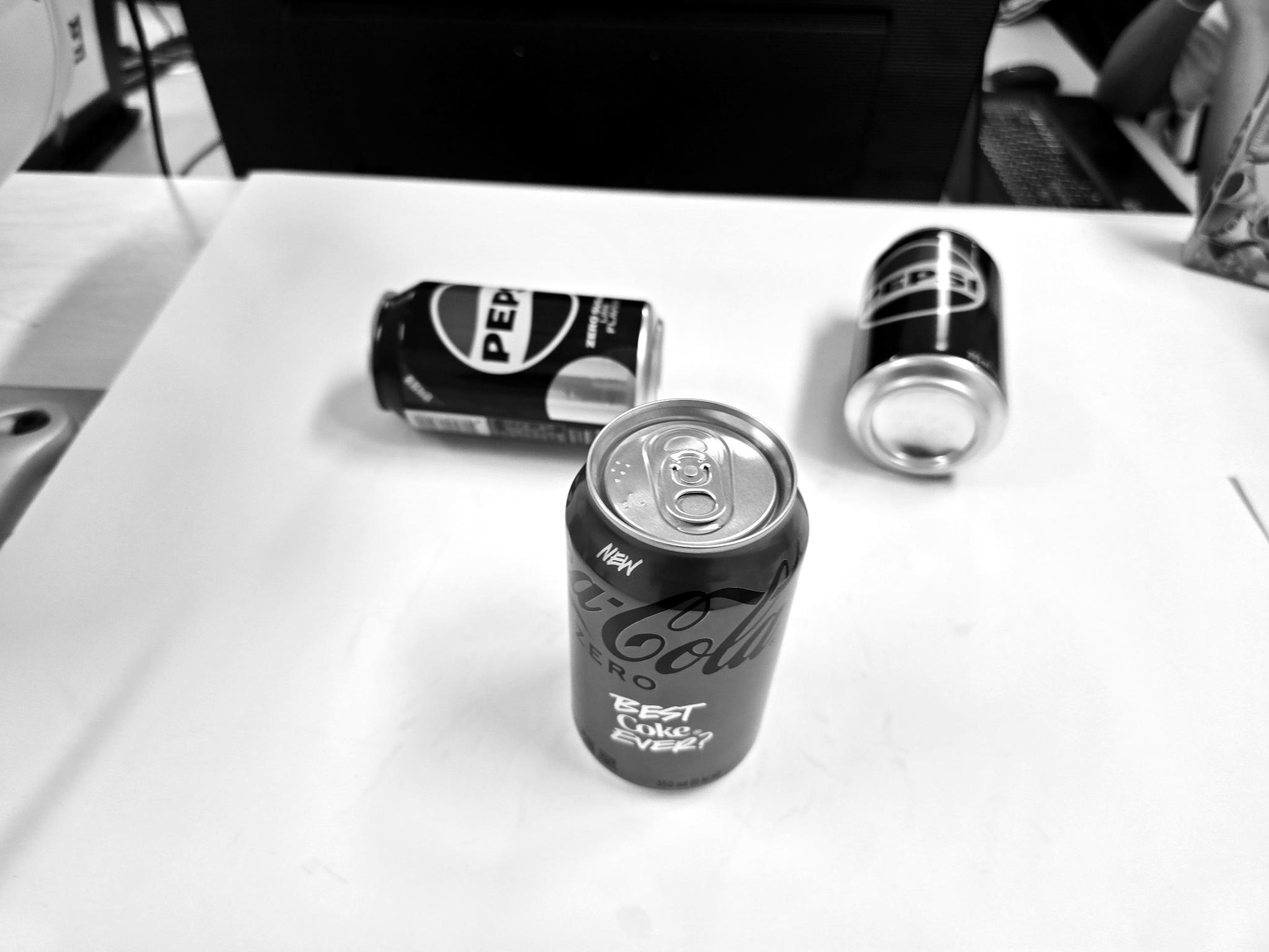can_coke_zero: (565, 400, 809, 791)
can_pepsi: (844, 228, 1008, 476)
can_pepsi_zero: (371, 281, 661, 443)
